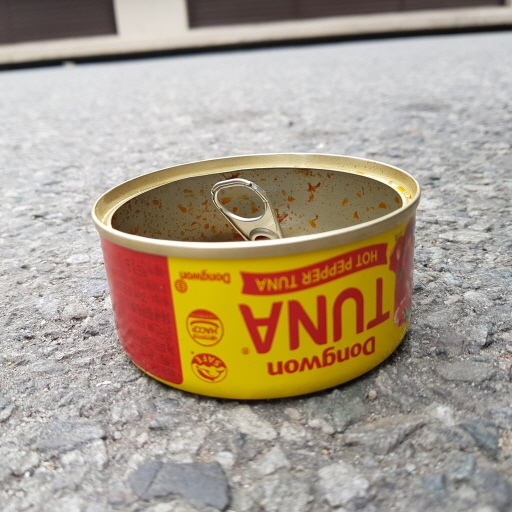Metal_1: (93, 153, 421, 404)
